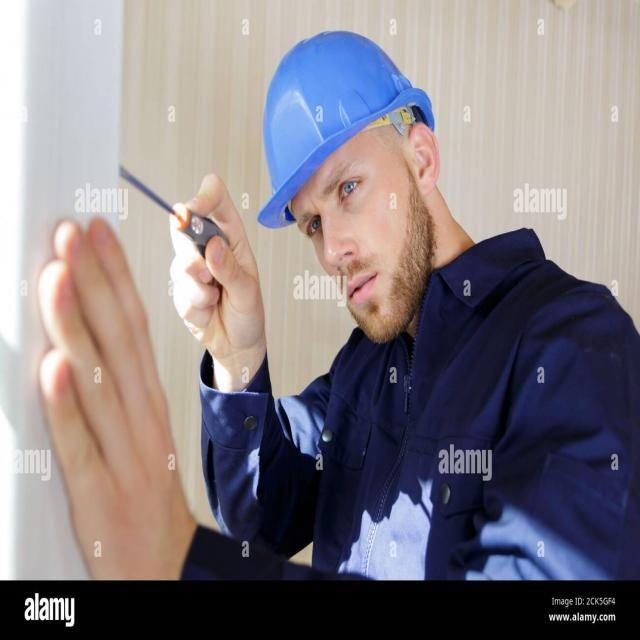screwdriver: (113, 154, 232, 264)
